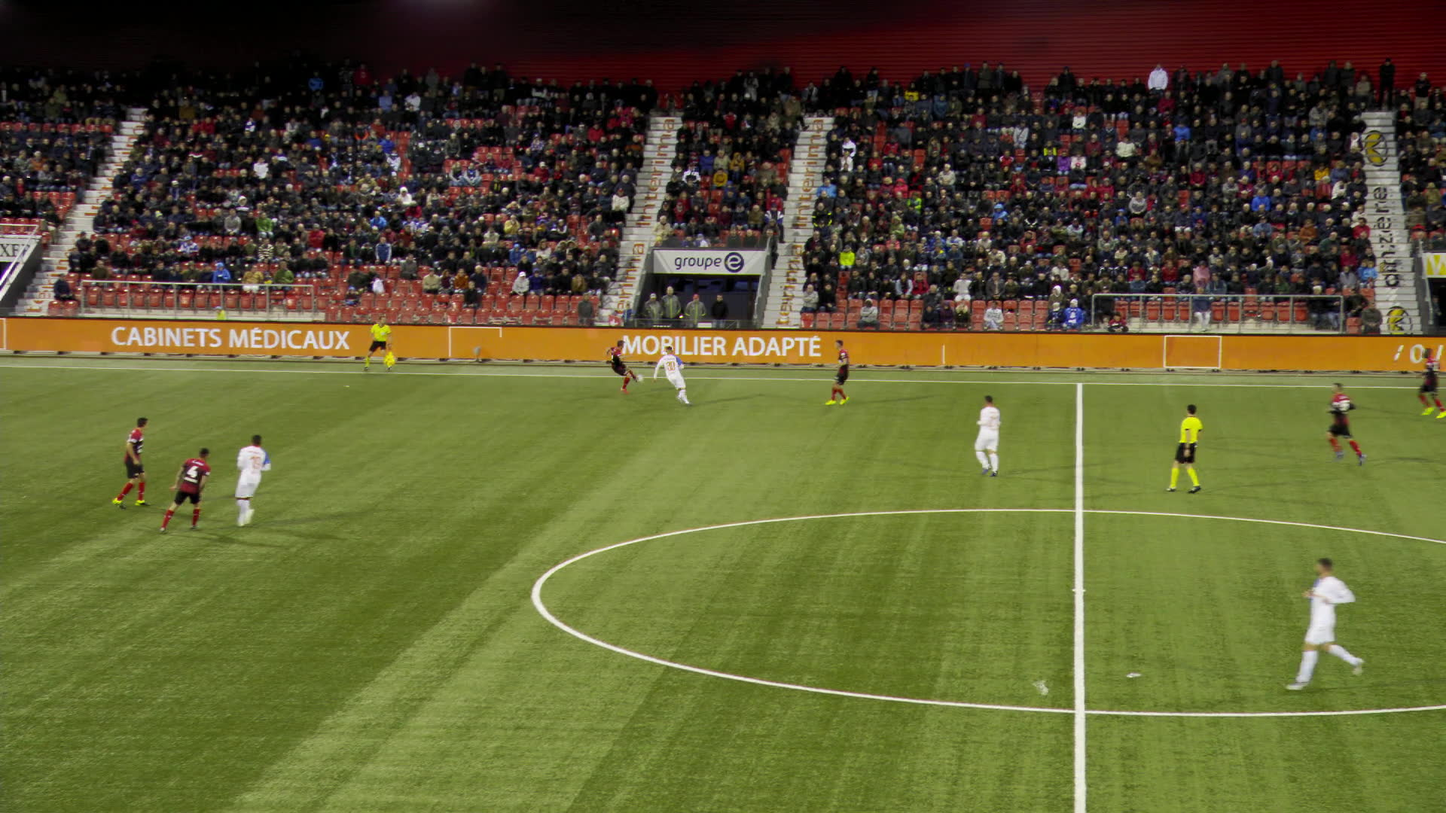ball: (635, 374, 643, 382)
player: (1286, 559, 1370, 690), (160, 446, 214, 532), (1325, 382, 1373, 462), (114, 418, 151, 510), (236, 434, 271, 527), (602, 339, 645, 393), (975, 394, 1002, 476), (653, 346, 689, 406), (1417, 348, 1445, 418), (825, 340, 851, 406)
referee: (1165, 403, 1203, 492), (363, 315, 395, 372)
